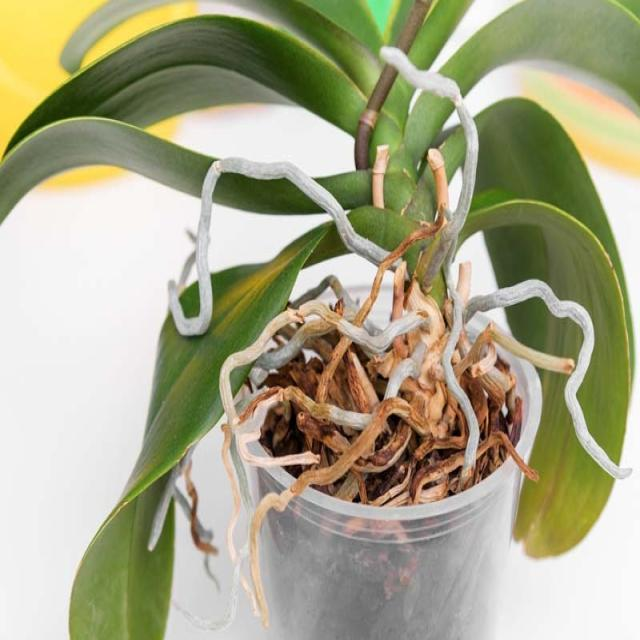leaf: (12, 13, 349, 139), (479, 199, 633, 462), (115, 284, 291, 508), (1, 119, 213, 225), (443, 1, 639, 115), (70, 452, 179, 639), (474, 97, 610, 239), (515, 373, 614, 557), (256, 0, 381, 94), (506, 298, 582, 360), (410, 1, 473, 69)
pot: (216, 300, 532, 639)
root: (171, 160, 434, 468), (249, 340, 430, 612), (169, 158, 388, 336), (439, 280, 629, 484), (381, 49, 478, 283), (384, 49, 477, 268)
stem: (370, 97, 436, 228), (406, 238, 434, 292)
